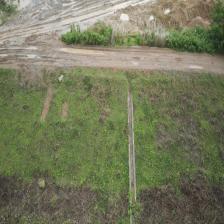slope drain: (127, 82, 136, 224)
